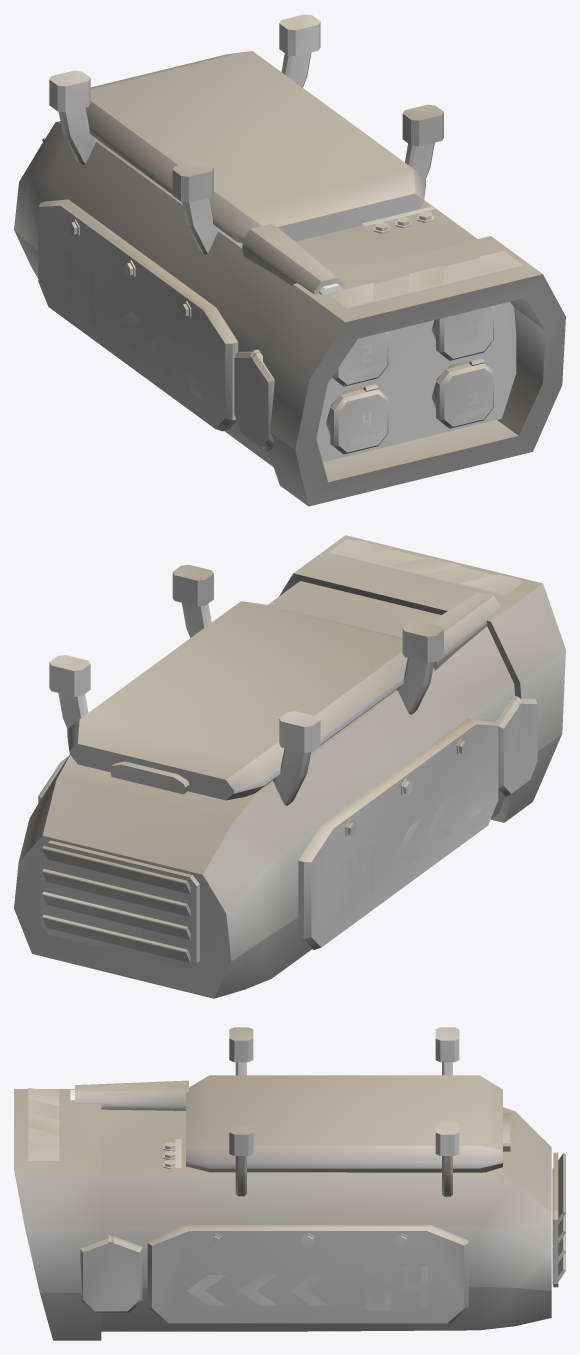
The model's file is missile-pod-l.glb.
3 views of the same model, one above another, from view 1: azimuth 30°, elevation 25°; view 2: azimuth 150°, elevation 25°; view 3: azimuth 270°, elevation 25° (orthographic). The views are drawn at different scales.
Parts seen in each view (by area): view 1: Body, Door_3, Door_2, Door_0, Door_1; view 2: Body; view 3: Body.
Part boxes in pixels (bbox=[...]): Body: bbox=[14, 14, 565, 506]; Door_3: bbox=[330, 384, 388, 454]; Door_2: bbox=[436, 358, 493, 428]; Door_0: bbox=[436, 305, 493, 360]; Door_1: bbox=[332, 331, 388, 386]; Body: bbox=[14, 535, 565, 998]; Body: bbox=[14, 1027, 565, 1340].
Bounding box in the file's own units: 0.3436 × 0.2979 × 0.6961.
